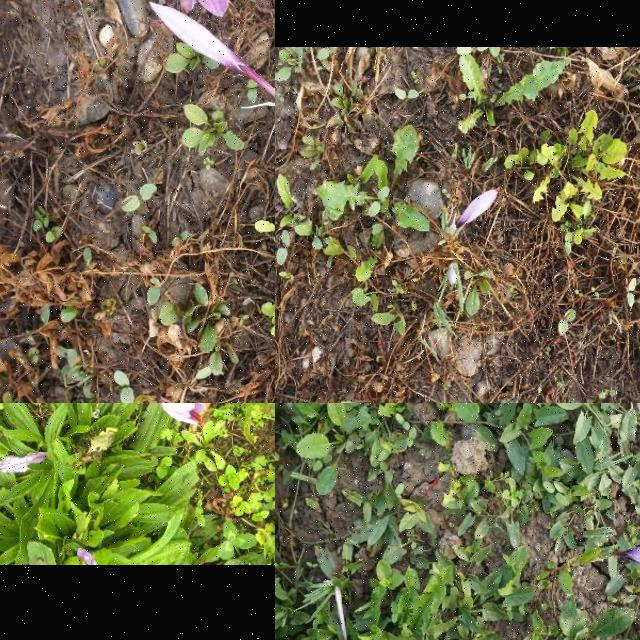flower: (150, 2, 252, 76), (455, 190, 497, 228), (151, 403, 208, 427), (624, 545, 640, 570)
